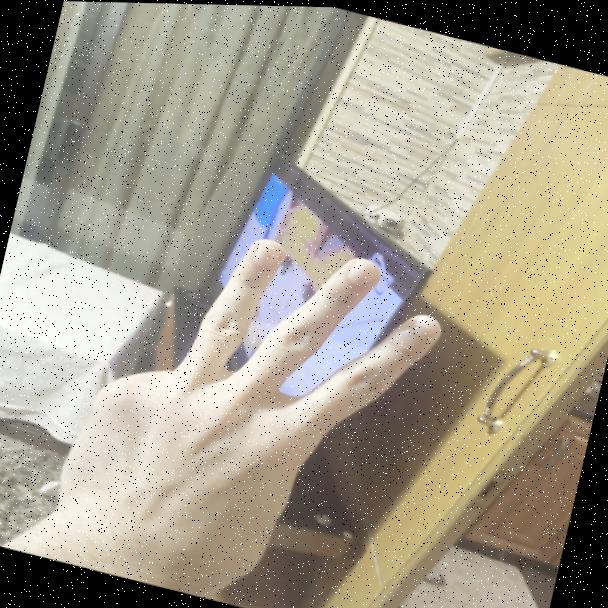five: (58, 194, 454, 583)
